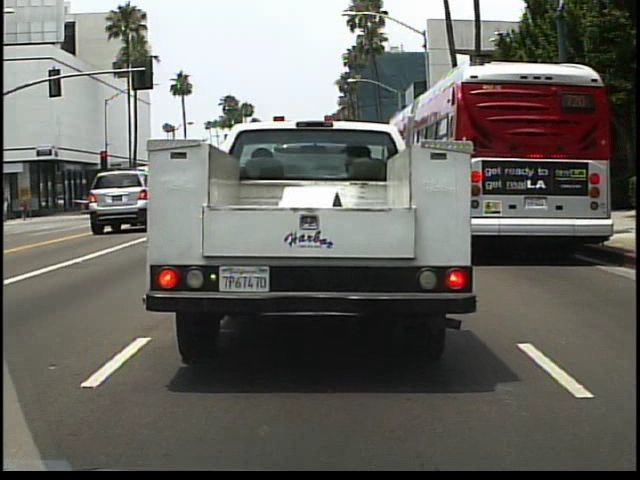person: (18, 192, 38, 226)
